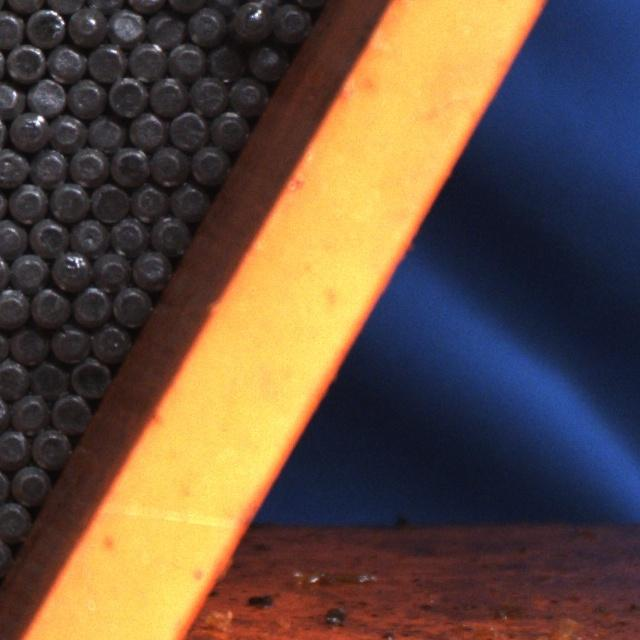tool: (9, 462, 50, 503), (228, 1, 269, 42), (148, 144, 188, 185), (70, 283, 110, 324), (25, 5, 66, 45), (108, 144, 148, 185), (87, 39, 127, 80), (31, 426, 71, 467), (70, 356, 111, 396), (68, 144, 108, 184), (48, 249, 88, 289), (167, 107, 207, 147), (7, 182, 47, 222), (186, 4, 226, 44), (9, 324, 49, 364), (27, 216, 67, 256), (8, 108, 48, 148), (88, 180, 128, 220), (149, 212, 189, 252), (208, 107, 248, 147), (48, 388, 88, 428), (66, 3, 105, 44), (50, 323, 89, 363), (48, 179, 87, 219), (127, 108, 166, 148), (148, 74, 187, 114), (29, 285, 68, 325), (107, 75, 146, 115), (9, 250, 48, 290), (126, 40, 165, 80), (26, 75, 66, 114), (128, 181, 168, 220), (169, 180, 209, 219), (9, 390, 48, 430), (111, 284, 150, 324), (189, 143, 228, 183), (89, 321, 129, 360), (30, 356, 69, 396), (66, 76, 105, 115), (91, 247, 130, 286), (5, 42, 44, 81), (188, 73, 227, 112), (167, 38, 206, 77), (205, 42, 244, 81), (246, 41, 285, 80), (270, 2, 309, 41), (28, 146, 66, 185), (47, 41, 85, 80), (70, 214, 109, 252), (227, 74, 266, 112), (131, 247, 169, 286), (47, 110, 85, 148), (86, 112, 124, 150), (146, 9, 184, 47), (110, 214, 148, 252), (107, 4, 144, 42), (0, 499, 32, 538), (0, 426, 29, 466), (0, 286, 28, 326), (0, 356, 28, 396), (0, 146, 26, 186), (0, 217, 25, 256), (0, 8, 24, 46), (0, 78, 22, 116)
